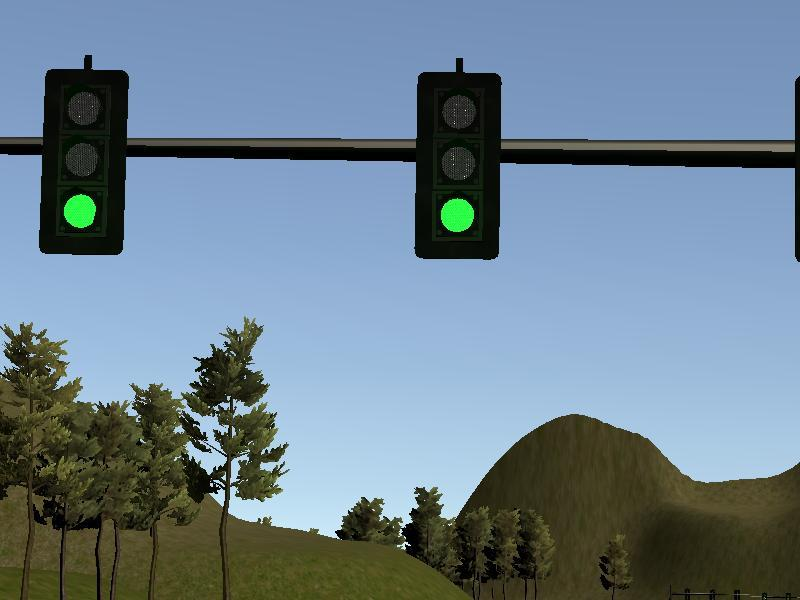Green: (42, 69, 128, 255), (414, 72, 500, 258)
